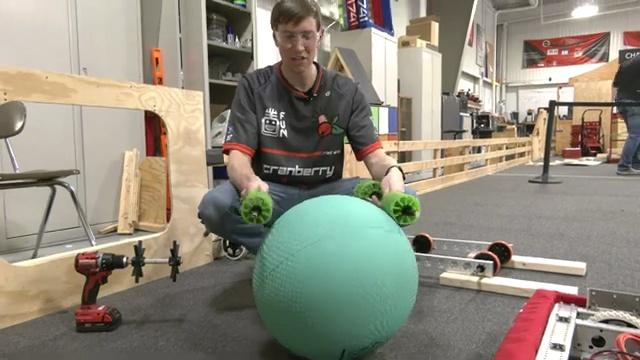ALGAE: (250, 193, 419, 358)
